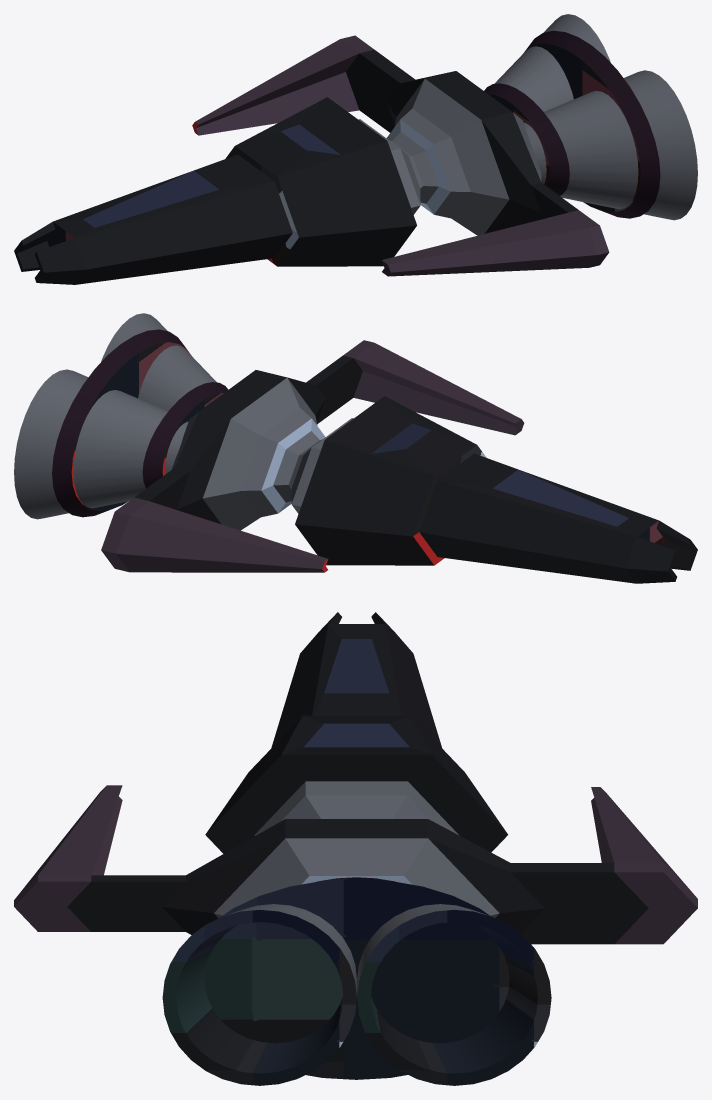
File: agilityShip.fbx
3 renders of one model, top to bottom at view 1: azimuth 30°, elevation 25°; view 2: azimuth 150°, elevation 25°; view 3: azimuth 270°, elevation 25°, orthographic. The views are drawn at different scales.
Parts seen in each view (by area): view 1: Plane; view 2: Plane; view 3: Plane.
Boxes of the visible parts, bbox=[...] form: Plane: bbox=[14, 14, 697, 284]; Plane: bbox=[14, 313, 697, 583]; Plane: bbox=[14, 612, 697, 1085].
Size of the model in its own units: 65.26 by 16.71 by 51.55.
1 material, 1 textured.
